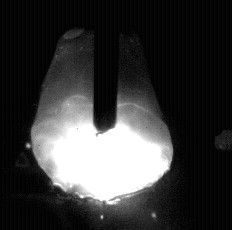arame: (94, 0, 119, 134)
poca: (31, 0, 171, 230)
